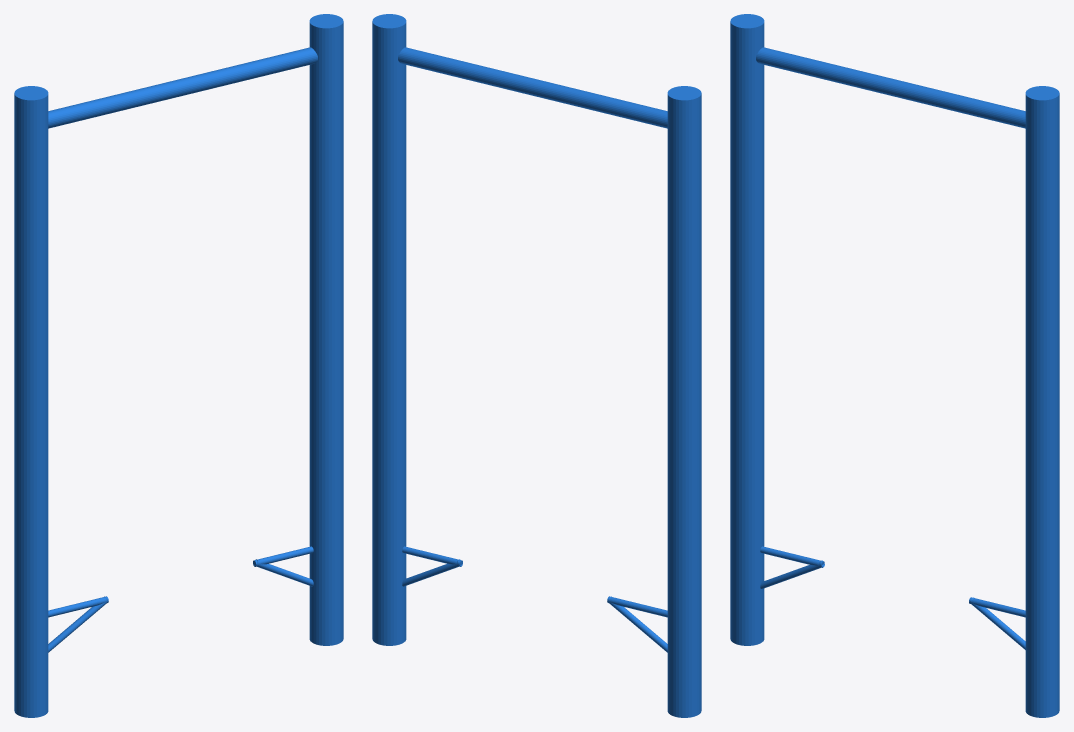
The model's file is barra ginastica.fbx.
3 renders of one model, left to right at view 1: azimuth 30°, elevation 25°; view 2: azimuth 150°, elevation 25°; view 3: azimuth 330°, elevation 25°, orthographic.
Visible parts, largest first — view 1: Cylinder.002; view 2: Cylinder.002; view 3: Cylinder.002.
Part boxes in pixels (bbox=[...]): Cylinder.002: bbox=[14, 14, 343, 717]; Cylinder.002: bbox=[372, 14, 701, 717]; Cylinder.002: bbox=[730, 14, 1059, 717].
Bounding box in the file's own units: 110 × 200 × 10.
